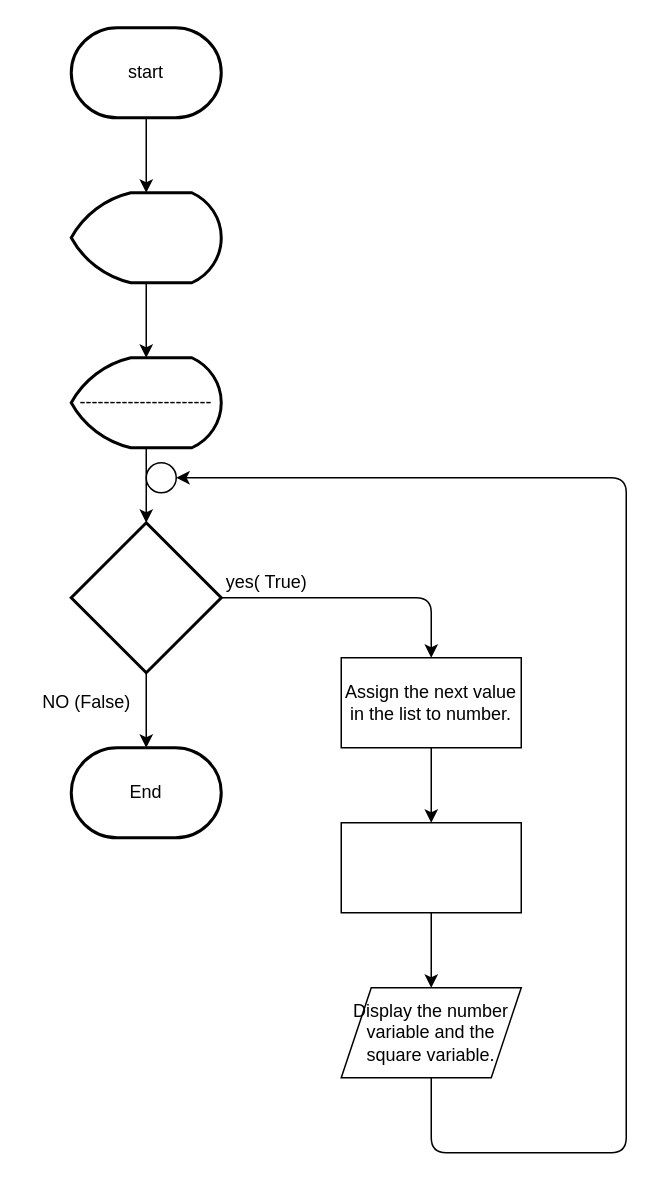
The diagram is 665 pixels wide and 1191 high, and some of its shapes have lost their labels. The centre of each missing label's shape, as x and y in pixels:
Number \ tSquare: point 145,237
number in range (1,11): point 145,597
square = number**2: point 430,867
